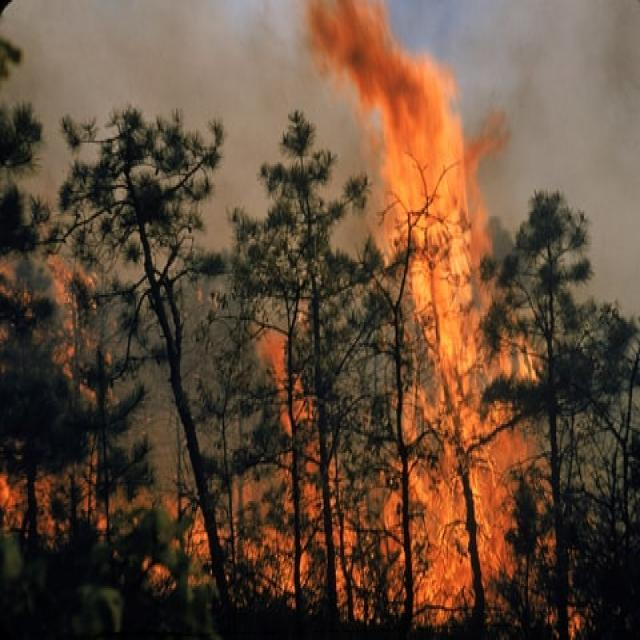Fire: (139, 5, 632, 637)
Smoke: (8, 21, 639, 270), (0, 0, 384, 250), (386, 2, 640, 314)
